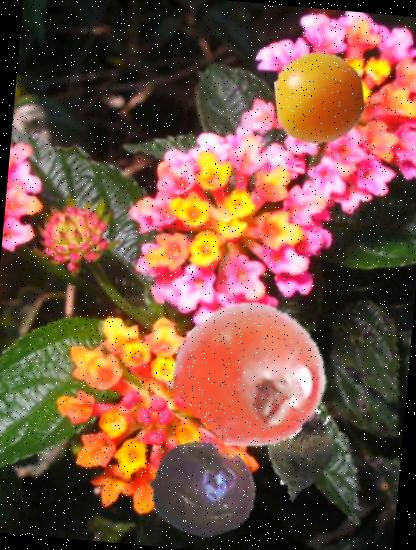Beetroot: (245, 396, 356, 508)
Cherry: (272, 49, 370, 147)
Passion: (147, 431, 264, 548)
Redcurrant: (172, 294, 332, 454)
